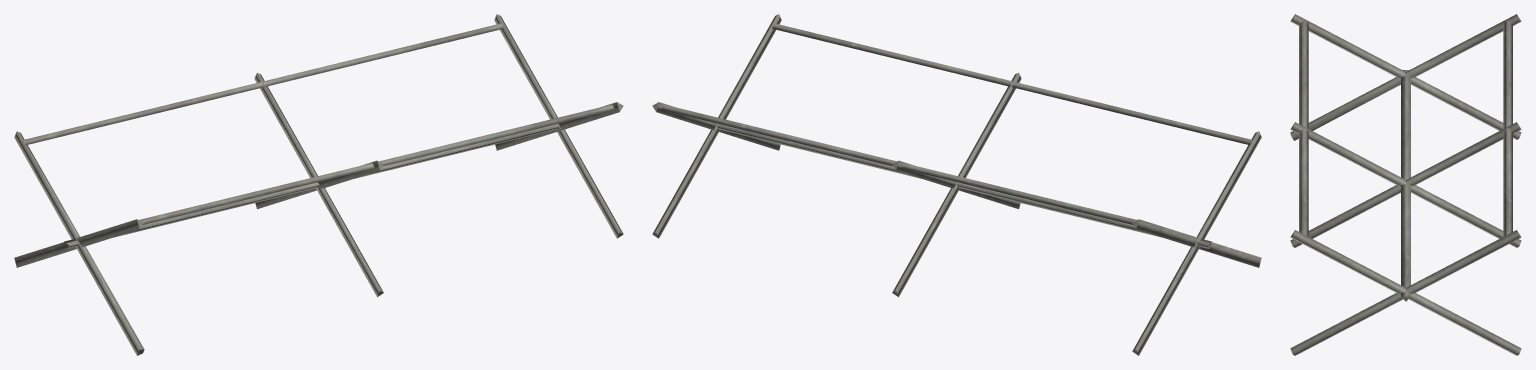
The model's file is eqp_camping_cot_l2.fbx.
The picture shows the model from 3 angles, left to right: view 1: azimuth 30°, elevation 25°; view 2: azimuth 150°, elevation 25°; view 3: azimuth 270°, elevation 25°; orthographic projection. The views are drawn at different scales.
Parts seen in each view (by area): view 1: mesh_node; view 2: mesh_node; view 3: mesh_node.
Boxes of the visible parts, x1=… form: mesh_node: x1=14, y1=14, x2=623, y2=355; mesh_node: x1=652, y1=14, x2=1261, y2=355; mesh_node: x1=1290, y1=14, x2=1521, y2=355.
Bounding box in the file's own units: 2.01 × 0.5221 × 0.8678.
1 material, 1 textured.
